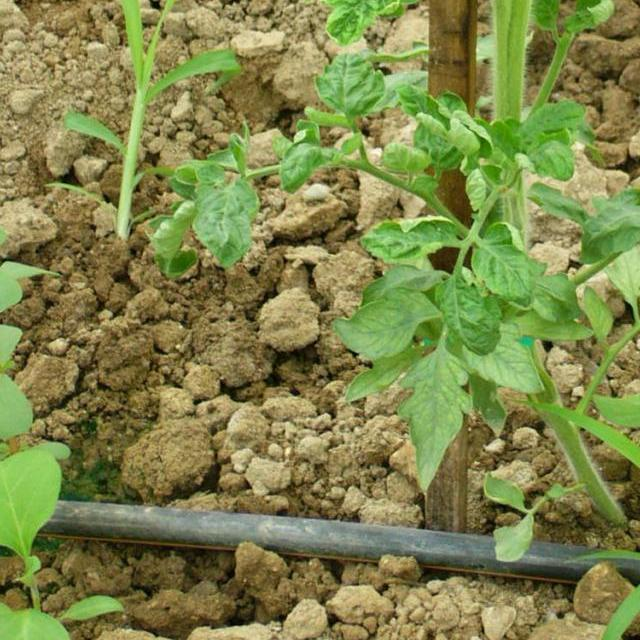Tomato leaf: (396, 322, 474, 494), (182, 172, 260, 272), (318, 48, 386, 132), (304, 0, 396, 44)
